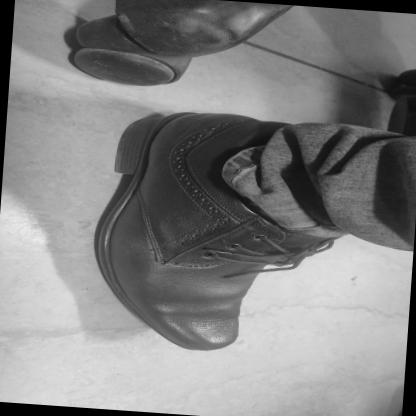ankle: (203, 161, 217, 169)
heel: (136, 123, 145, 130)
left_foot: (89, 105, 329, 358)
pinky: (163, 327, 176, 336)
toe: (225, 321, 236, 326)
